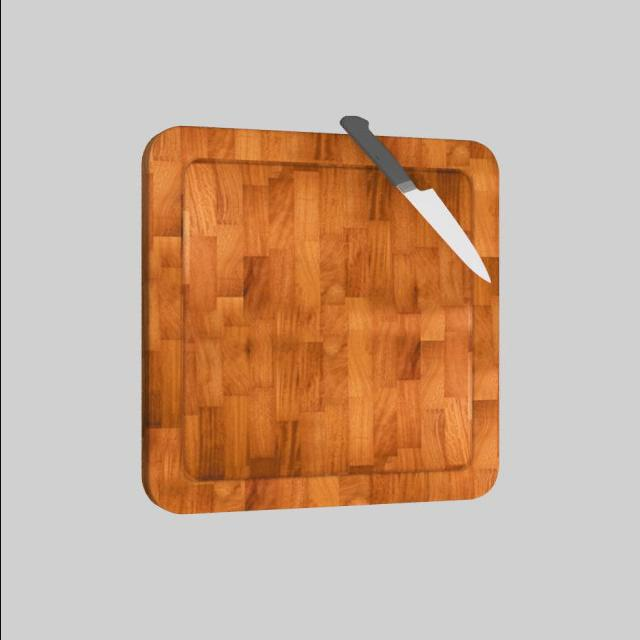knife: (338, 116, 411, 186)
